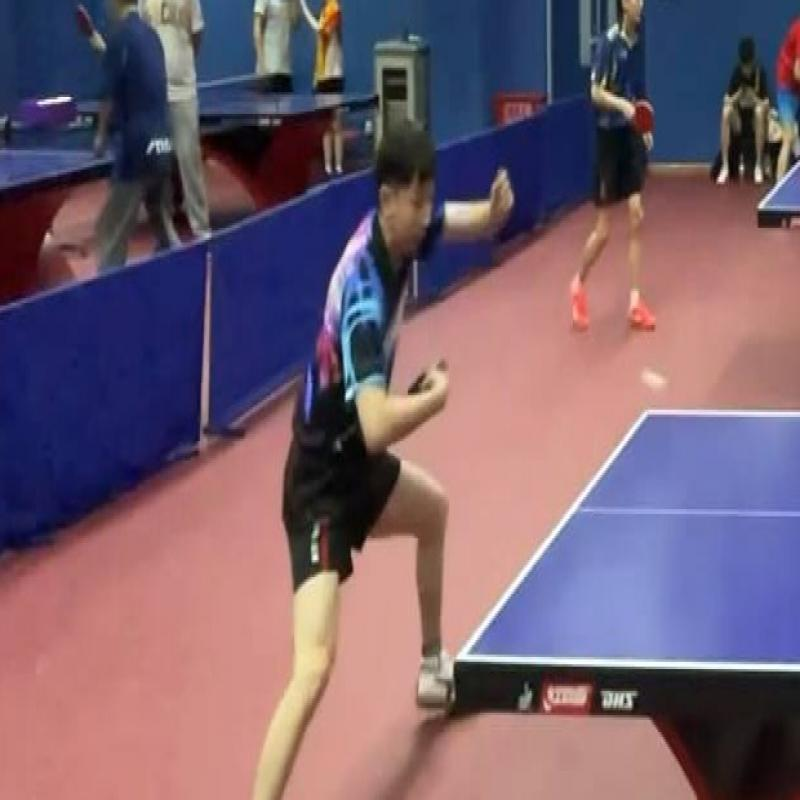bats: (403, 347, 456, 424)
